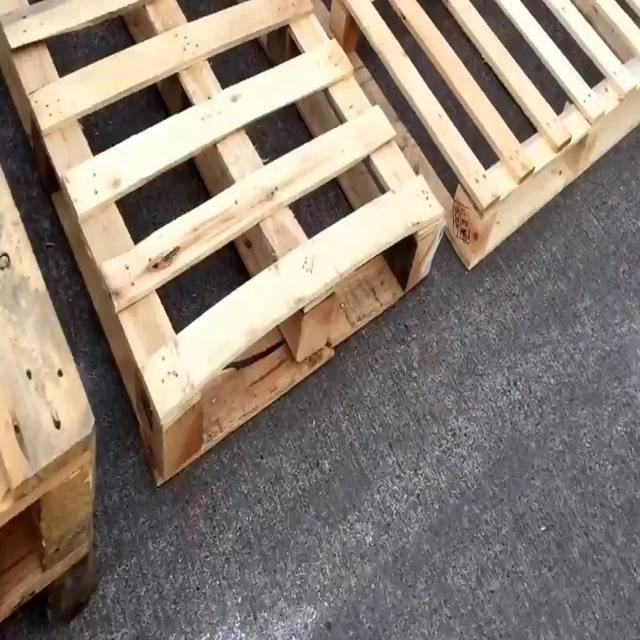Palette: (0, 0, 452, 498), (310, 0, 640, 285), (0, 146, 113, 640)
